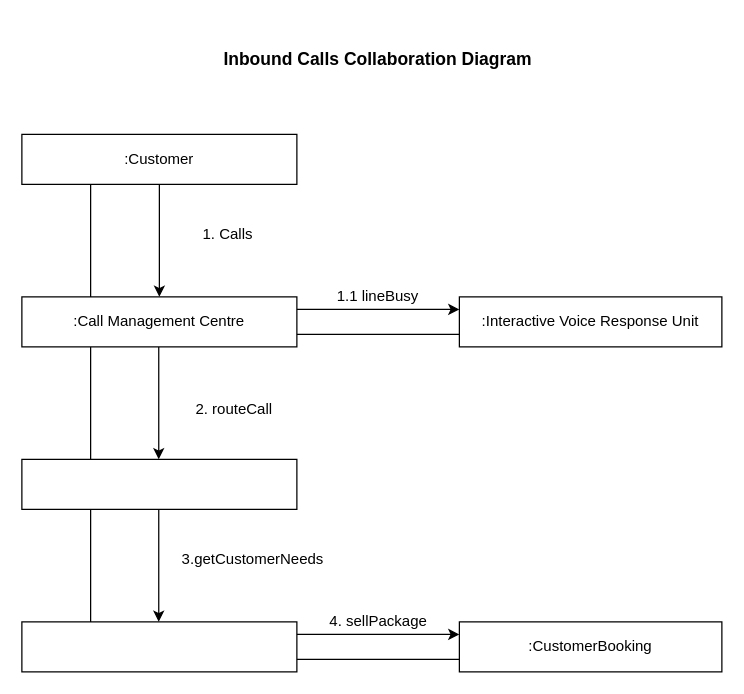
This 744x694 diagram has some shape labels left out. The centre of each missing label's shape, as x and y in pixels:
":Holiday Package" belongs at pixel 159 646.
":Relationship Manager" belongs at pixel 159 483.
